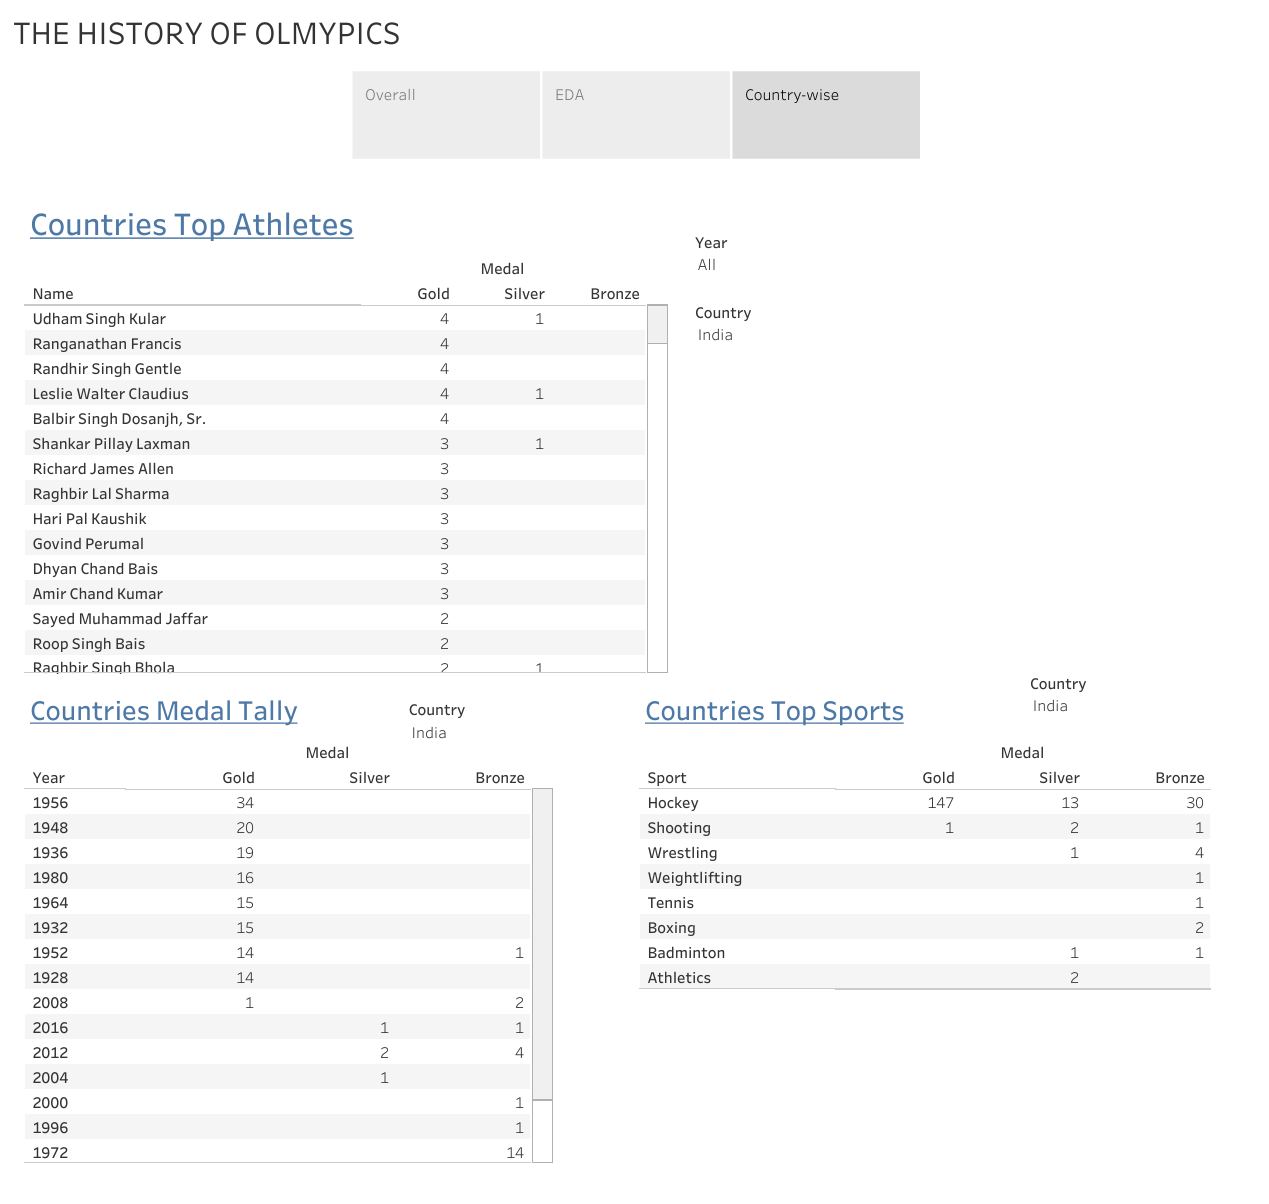

This screenshot's page, from the dashboard's own definition file:
{"tool":"tableau","page":{"name":"Dashboard Countries","canvas":[1000,800],"ordinal":0},"visuals":[{"type":"worksheet","title":"Countries top athletes","mark":"Automatic","rows":["Name"],"cols":["Medal"],"box":[8,8,984,392]},{"type":"filter","title":"Countries top athletes","param":"[federated.0h1xndf1fd1zb4165xbdf0hfktvs].[none:Year:ok]","box":[544,36,160,61]},{"type":"filter","title":"Countries top athletes","param":"[federated.0h1xndf1fd1zb4165xbdf0hfktvs].[none:country:nk]","box":[544,97,160,61]},{"type":"filter","title":"Countries top sports","param":"[federated.0h1xndf1fd1zb4165xbdf0hfktvs].[none:country:nk]","box":[816,393,168,61]},{"type":"worksheet","title":"Country Medal Tally","mark":"Automatic","rows":["Year"],"cols":["Medal"],"box":[8,400,492,392]},{"type":"worksheet","title":"Countries top sports","mark":"Automatic","rows":["Sport"],"cols":["Medal"],"box":[500,400,492,392]},{"type":"filter","title":"Country Medal Tally","param":"[federated.0h1xndf1fd1zb4165xbdf0hfktvs].[none:country:nk]","box":[319,414,168,61]}]}

Visuals, with their boxes on the page's 1000x800 design canvas (x1, y1, x2, y2). These are canvas units, not pixel positions in the 1269x1204 screenshot, which may show the page scaled, cropped or inside an application window:
"Countries top athletes" worksheet: <region>8, 8, 992, 400</region>
"Countries top athletes" filter: <region>544, 36, 704, 97</region>
"Countries top athletes" filter: <region>544, 97, 704, 158</region>
"Countries top sports" filter: <region>816, 393, 984, 454</region>
"Country Medal Tally" worksheet: <region>8, 400, 500, 792</region>
"Countries top sports" worksheet: <region>500, 400, 992, 792</region>
"Country Medal Tally" filter: <region>319, 414, 487, 475</region>
